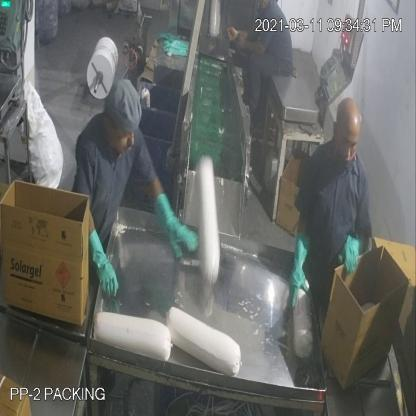glove: (153, 186, 202, 265), (83, 223, 121, 300), (283, 237, 312, 306), (340, 223, 362, 271)
no_glove: (228, 28, 270, 66)
